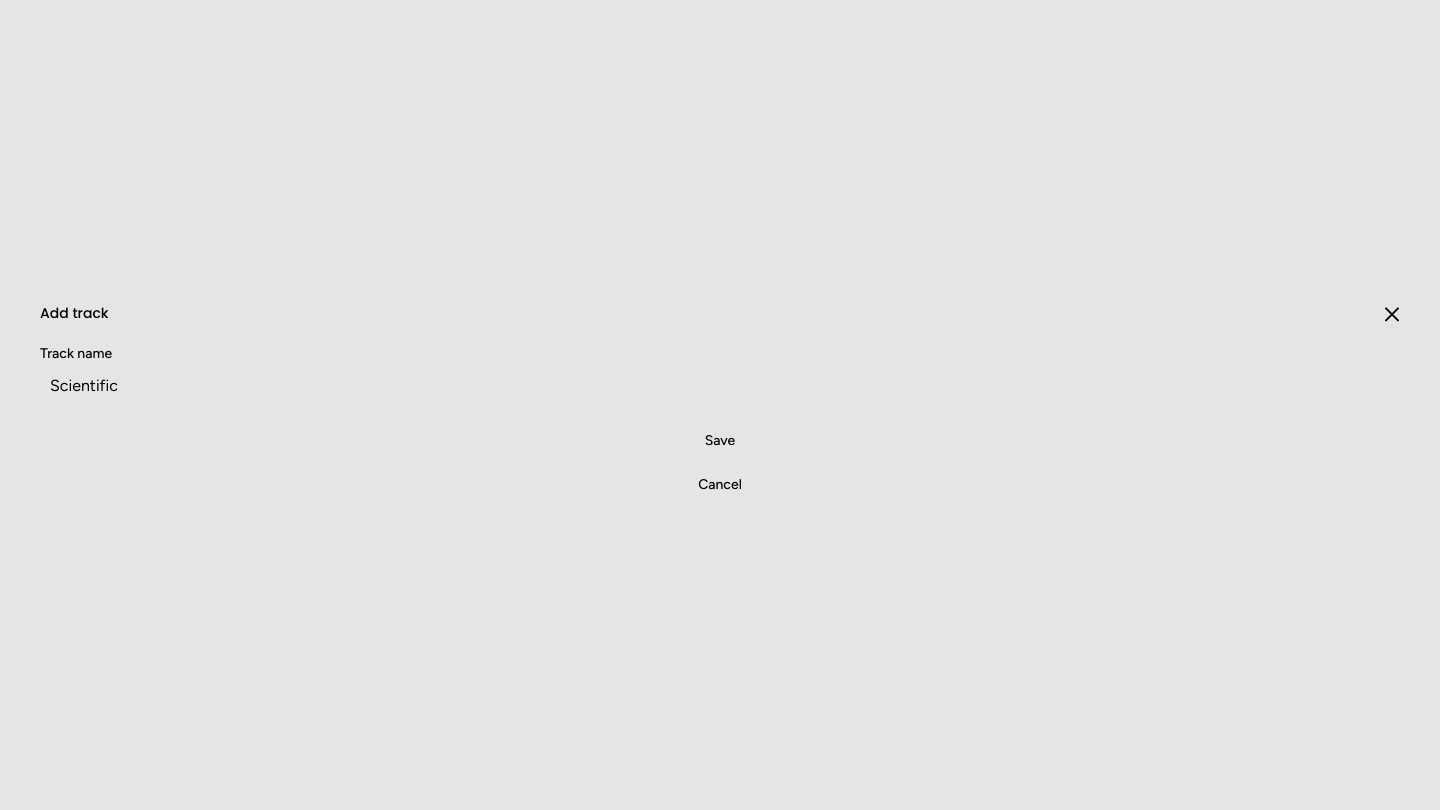
it: offering editor request lifecycle › preserves the draft on conflict and waits for another explicit save
The image size is (1440, 810).
Step 1. Replace the text in the field labelled "Track name" with "Literature" → (720, 386), box [40, 368, 1400, 404]
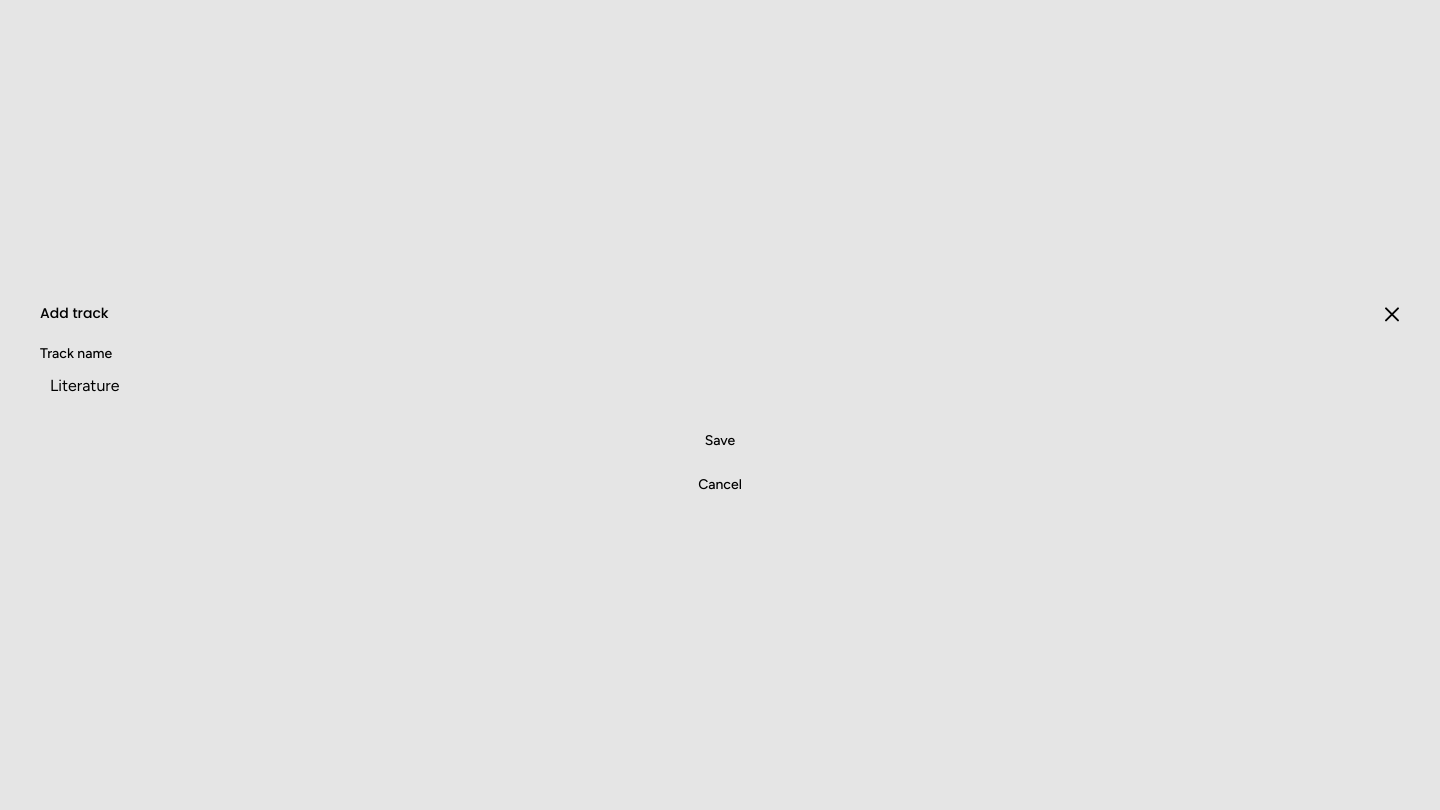
Step 2. Click the button "Save" → (720, 442), box [40, 424, 1400, 460]
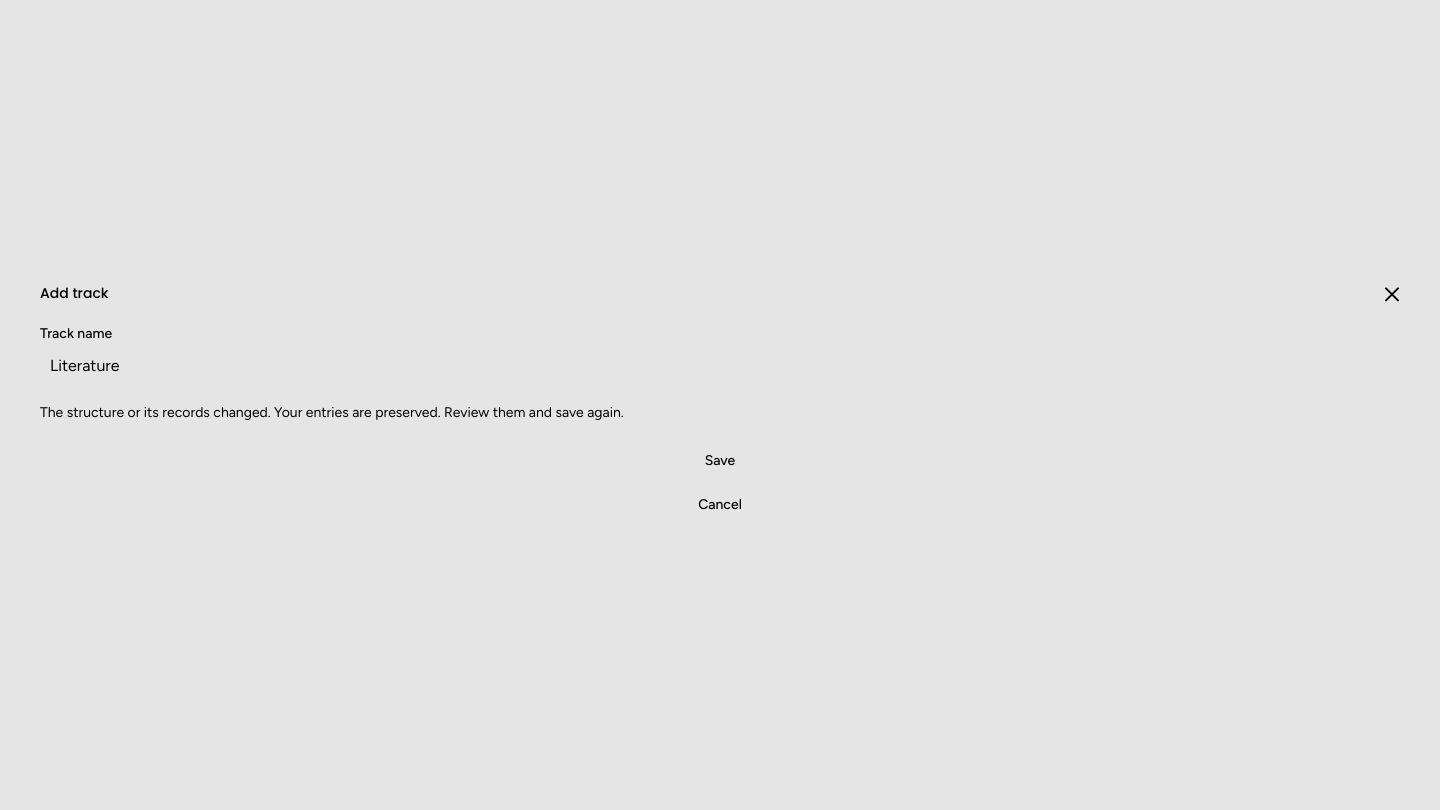
Expected: the field labelled "Track name" is enabled, [40, 348, 1400, 384]
Result: the text "The structure or its records changed" is shown at [40, 405, 624, 422]
